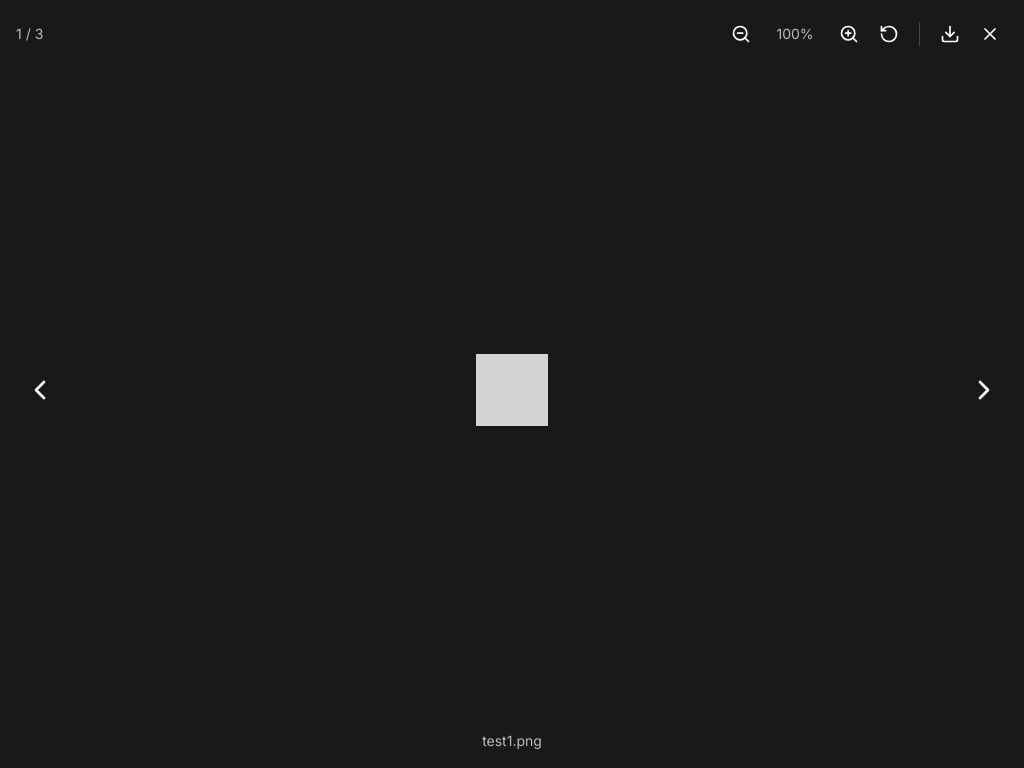
Test: ImageLightbox › zoom controls › should reset zoom when reset button is clicked
The width and height of the screenshot is (1024, 768).
// Zoom in first
Click the button named "Zoom in" at [849, 34], box [831,16,867,52]
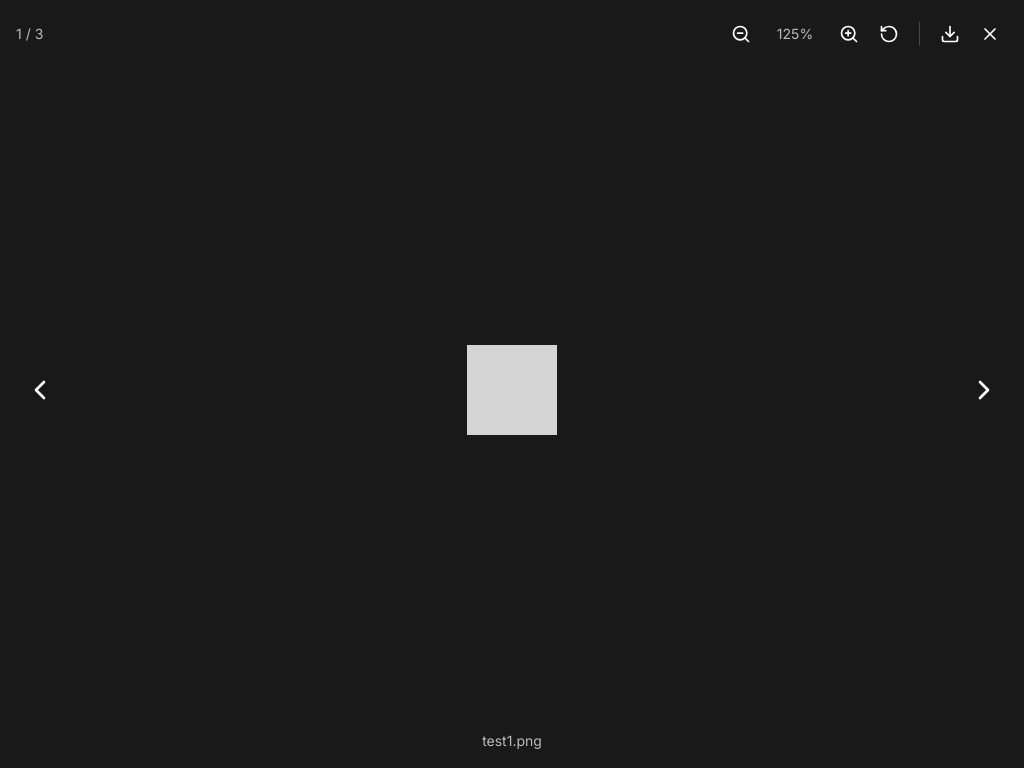
Click the button named "Zoom in" at [849, 34], box [831,16,867,52]
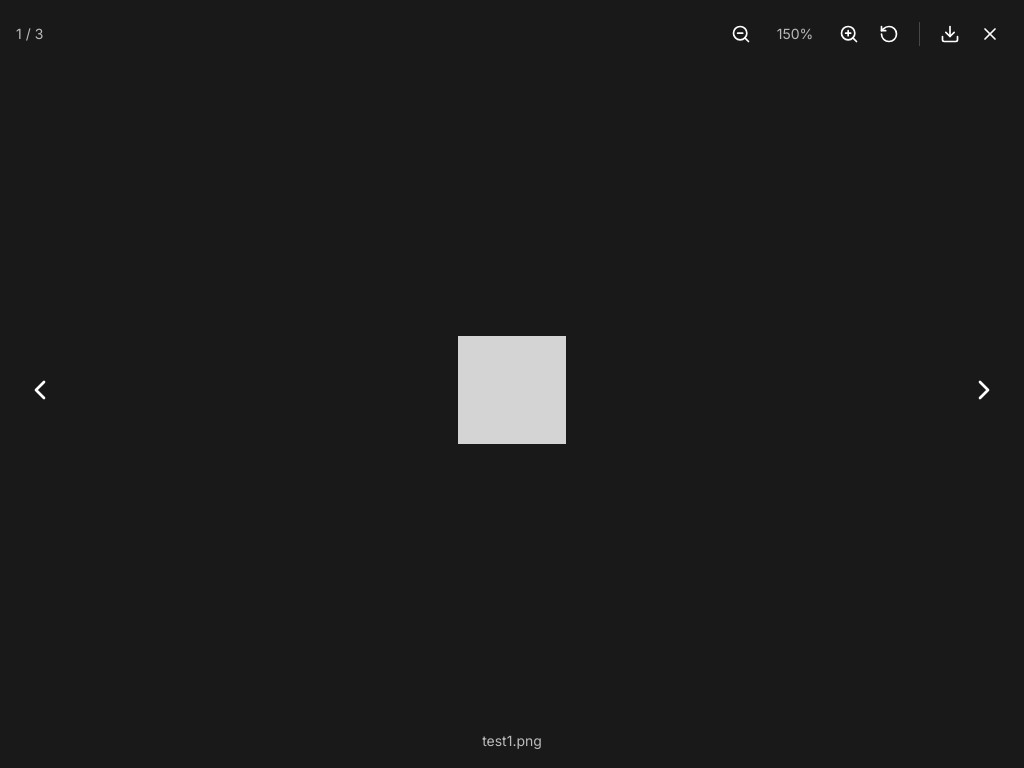
Check: the text "150%" is shown, box [777,25,813,42]
Click the button named "Reset zoom" at [889, 34], box [871,16,907,52]
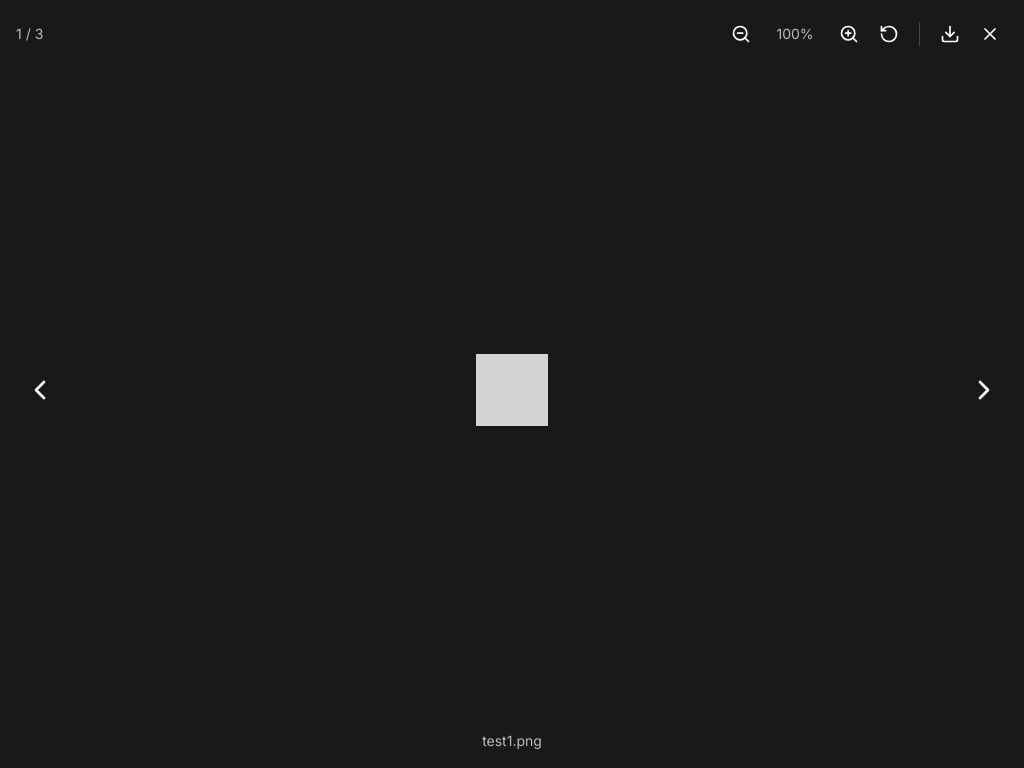
Check: the text "100%" is shown, box [776,25,814,42]
